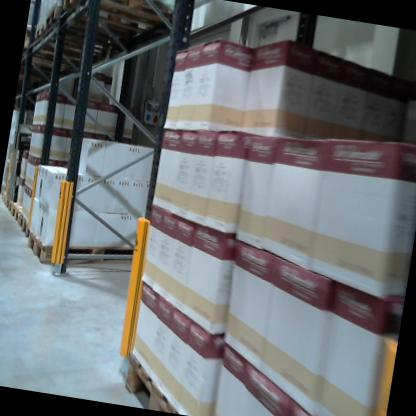pallet: (114, 348, 219, 416), (22, 227, 150, 280), (45, 0, 175, 49), (59, 0, 196, 36), (32, 15, 124, 61), (15, 209, 32, 238), (9, 200, 24, 223), (4, 194, 15, 213)
